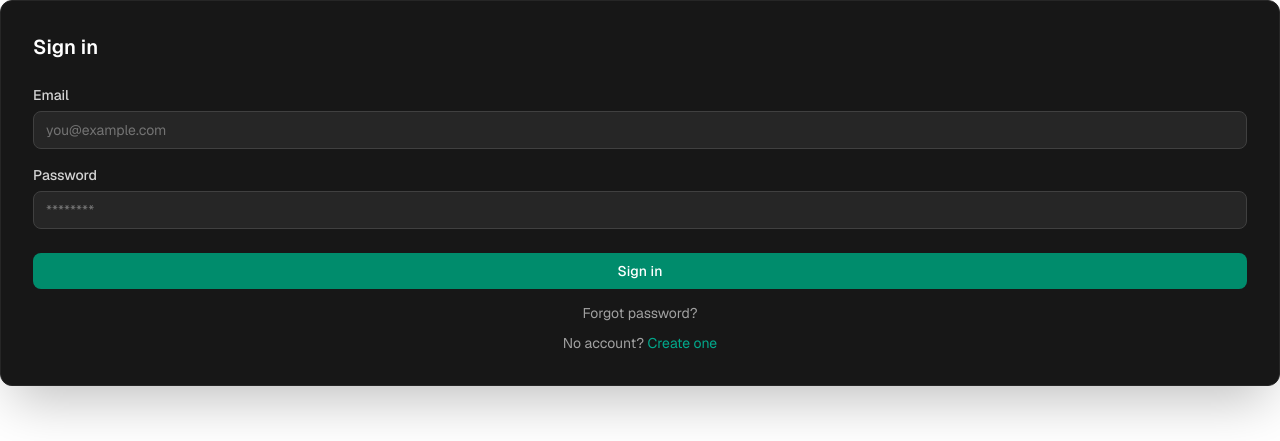
Login page › shows 2FA form when requires_2fa
The width and height of the screenshot is (1280, 441).
Type "a@b.com" into the field labelled "Email" at (640,130), box [33,111,1247,149]
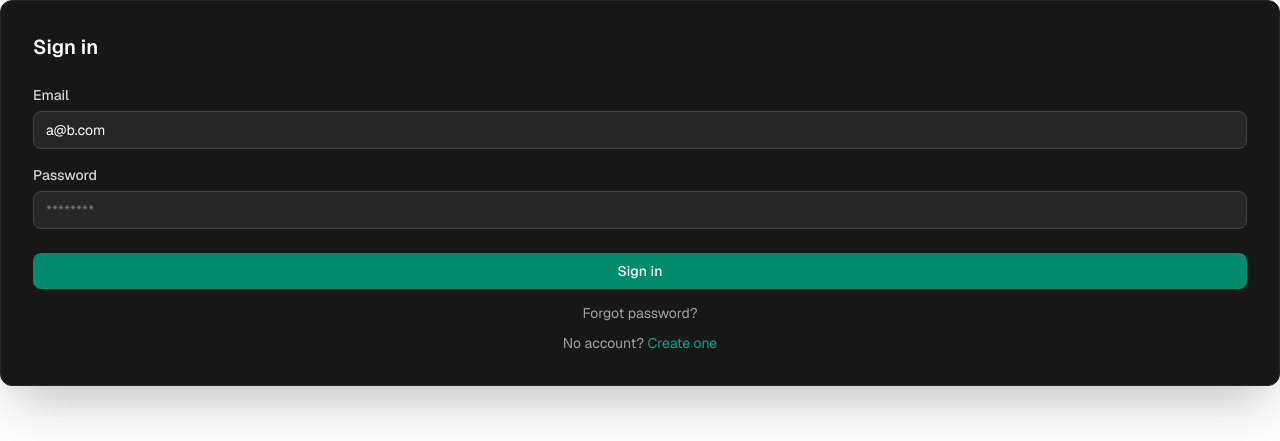
Type "pass1234" into the password field labelled "Password" at (640,210), box [33,191,1247,229]
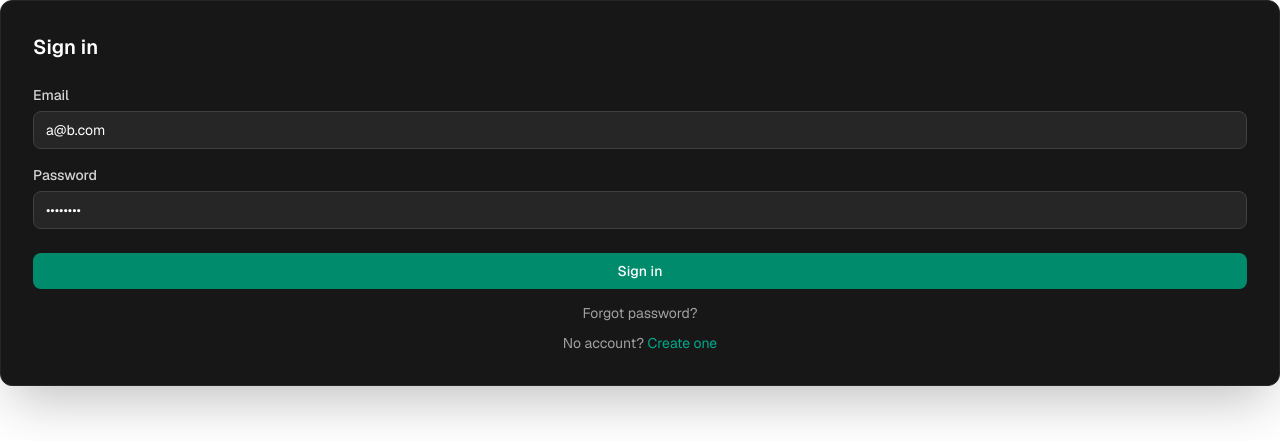
Submit the form "Sign in"
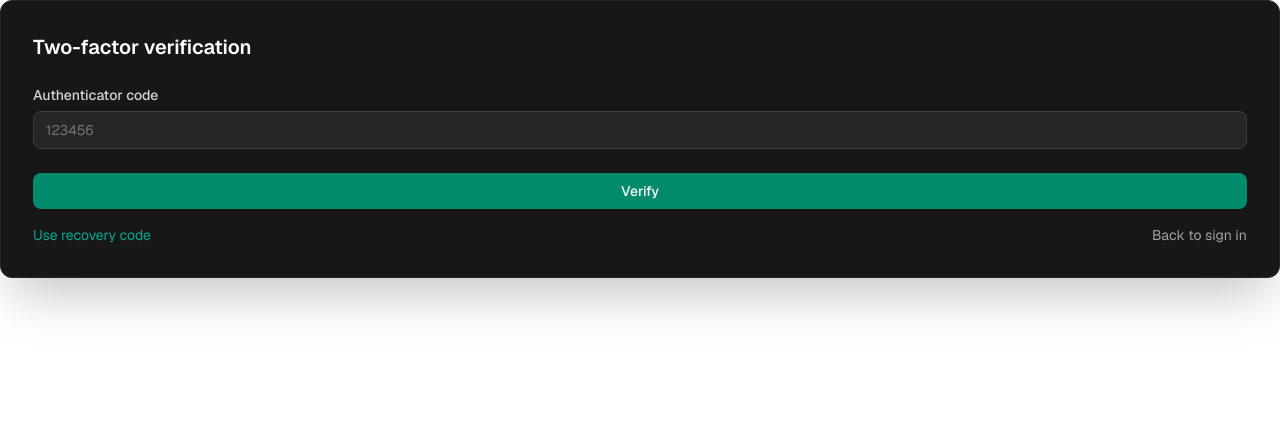
expect the heading "Two-factor verification" is shown: met, box [33,34,252,60]
expect the field labelled "Authenticator code" is shown: met, box [33,111,1247,149]
